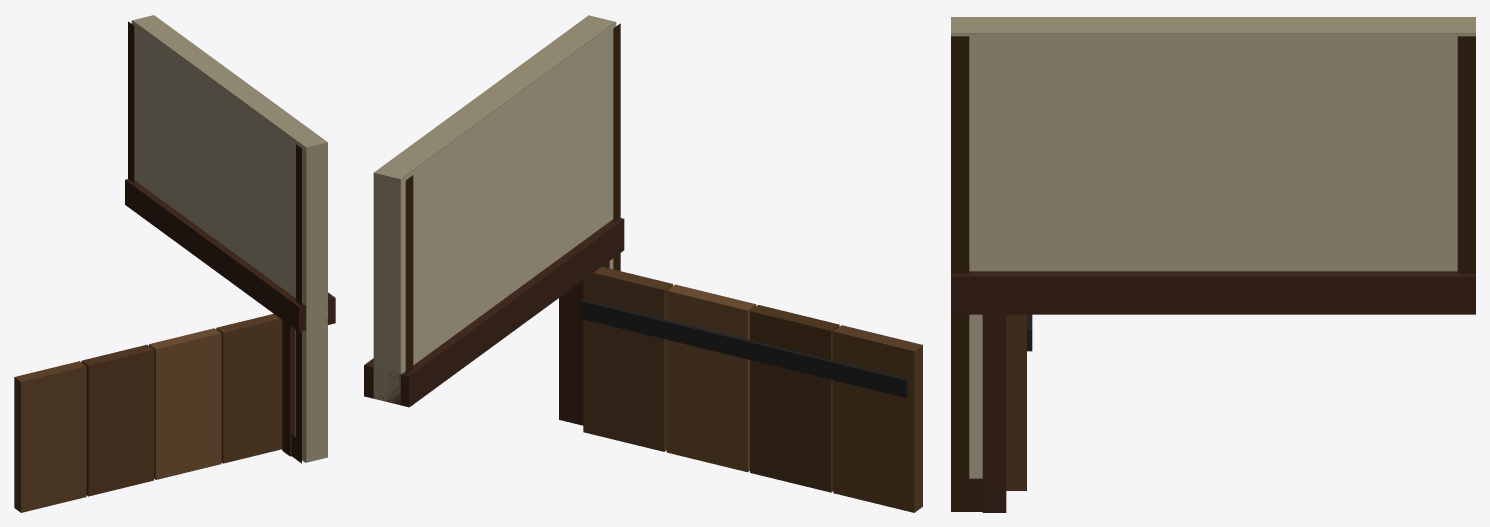
Rendered from wall-halftimber-door-open-high-r.glb.
3 renders of one model, left to right at view 1: azimuth 30°, elevation 25°; view 2: azimuth 150°, elevation 25°; view 3: azimuth 270°, elevation 25°, orthographic. The views are drawn at different scales.
Parts seen in each view (by area): view 1: wall-halftimber-door-open-high-r; view 2: wall-halftimber-door-open-high-r; view 3: wall-halftimber-door-open-high-r.
Part boxes in pixels (<box>): wall-halftimber-door-open-high-r: <box>14,15,335,512</box>; wall-halftimber-door-open-high-r: <box>364,15,922,512</box>; wall-halftimber-door-open-high-r: <box>951,17,1475,512</box>.
Size of the model in its own units: 0.984 by 1 by 1.
